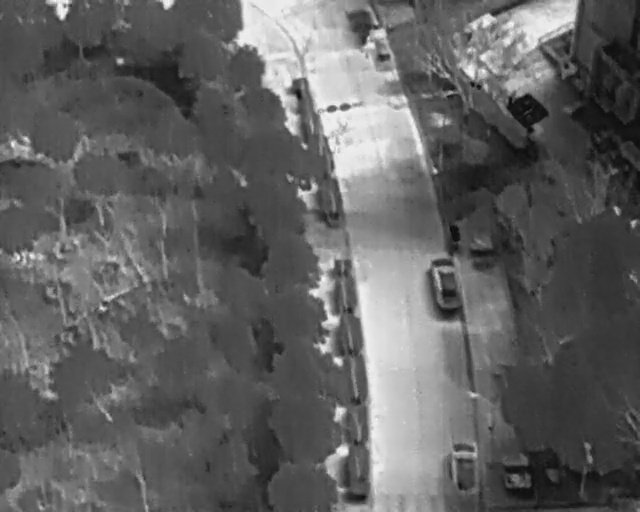Car: (424, 254, 466, 317), (450, 438, 480, 506)
